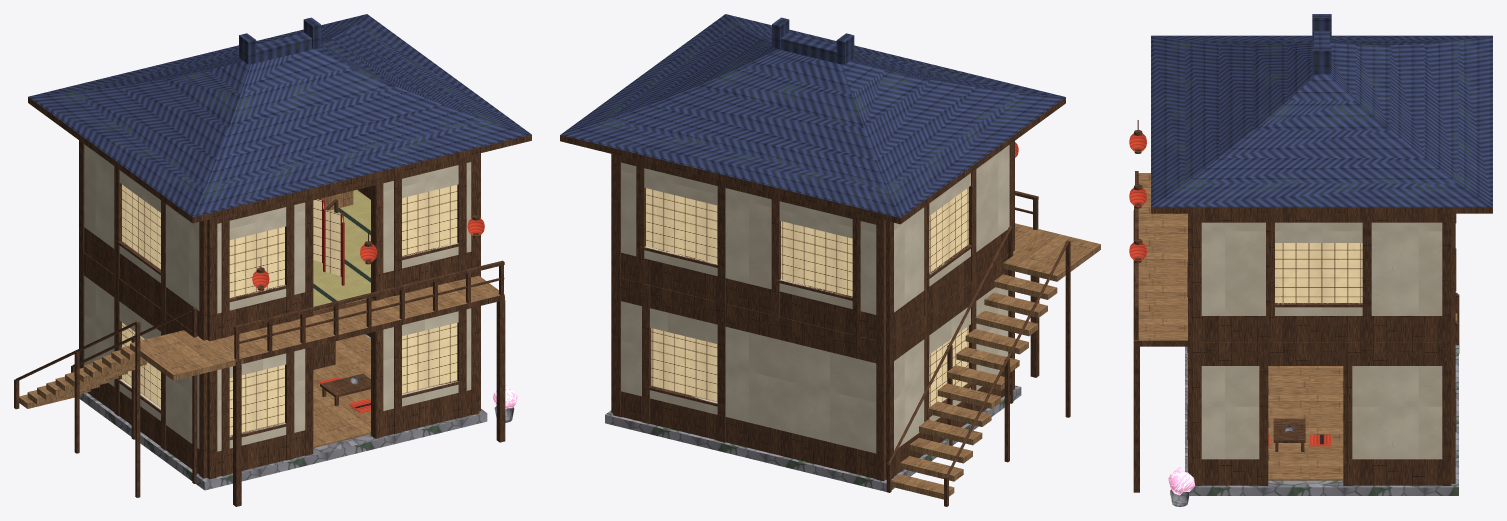
File: house_2floor.gltf
3 renders of one model, left to right at view 1: azimuth 30°, elevation 25°; view 2: azimuth 150°, elevation 25°; view 3: azimuth 270°, elevation 25°, orthographic. The views are drawn at different scales.
Parts seen in each view (by area): view 1: Building; view 2: Building; view 3: Building.
Part boxes in pixels (<box>): Building: <box>14,14,531,506</box>; Building: <box>560,14,1100,506</box>; Building: <box>1129,14,1492,506</box>.
Size of the model in its own units: 13.72 by 13.42 by 11.28.
Materials: 14 (14 with a texture image).
